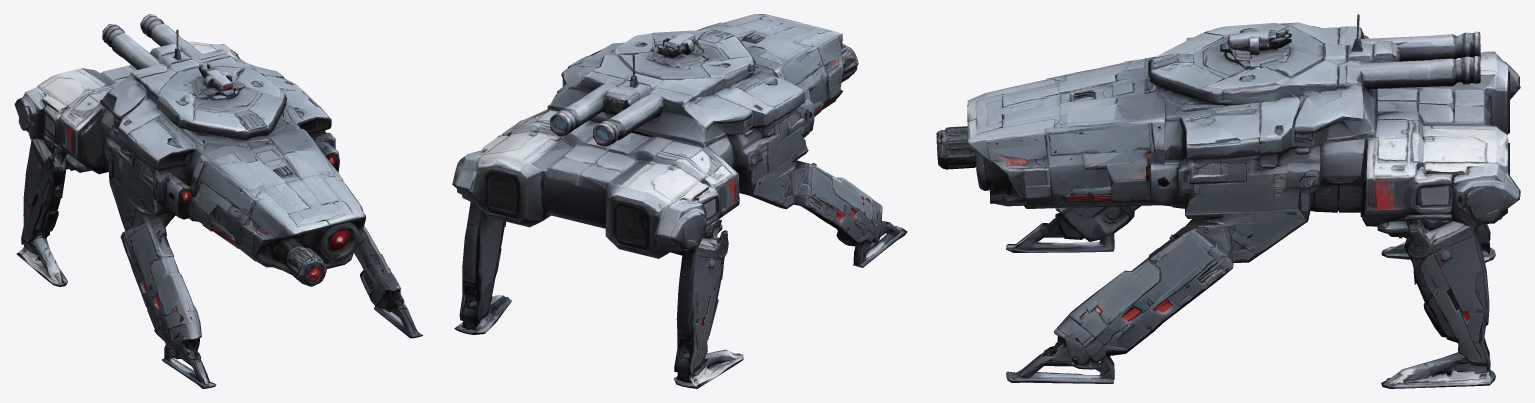
File: t243_eaa_lod0.glb
The picture shows the model from 3 angles, left to right: view 1: azimuth 30°, elevation 25°; view 2: azimuth 150°, elevation 25°; view 3: azimuth 270°, elevation 25°; orthographic projection. The views are drawn at different scales.
Size of the model in its own units: 2.63 by 2.65 by 4.6.
Materials: 1 (1 with a texture image).
